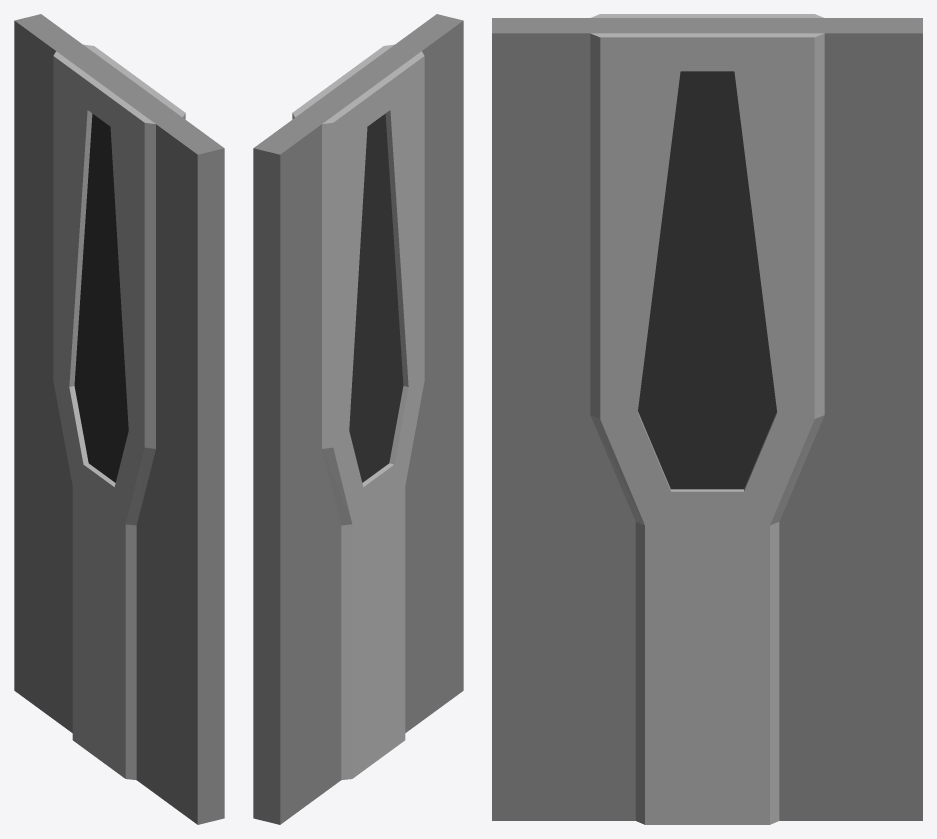
Rendered from door_C.FBX.
3 renders of one model, left to right at view 1: azimuth 30°, elevation 25°; view 2: azimuth 150°, elevation 25°; view 3: azimuth 270°, elevation 25°, orthographic. The views are drawn at different scales.
Visible parts, largest first — view 1: door_C; view 2: door_C; view 3: door_C.
Boxes of the visible parts, left/top/right/bottom form: door_C: left=14, top=14, right=224, bottom=824; door_C: left=253, top=14, right=463, bottom=824; door_C: left=492, top=14, right=922, bottom=824.
Size of the model in its own units: 13.98 by 219 by 109.
